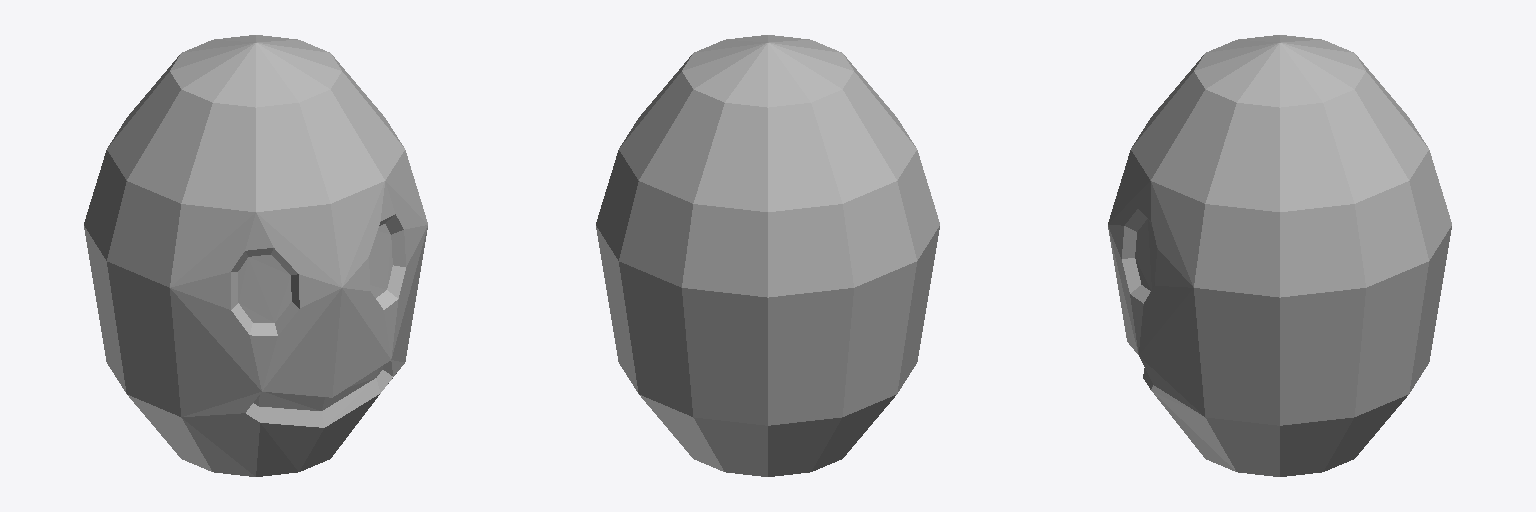
Rendered from head.obj.
3 views of the same model, side by side, from view 1: azimuth 30°, elevation 25°; view 2: azimuth 150°, elevation 25°; view 3: azimuth 270°, elevation 25° (orthographic).
Visible parts, largest first — view 1: Sphere002; view 2: Sphere002; view 3: Sphere002.
Part boxes in pixels (x1,y1,x2,y2): Sphere002: (84, 35, 427, 476); Sphere002: (596, 35, 939, 476); Sphere002: (1108, 35, 1451, 476).
Bounding box in the file's own units: 45.36 × 61.97 × 45.36.